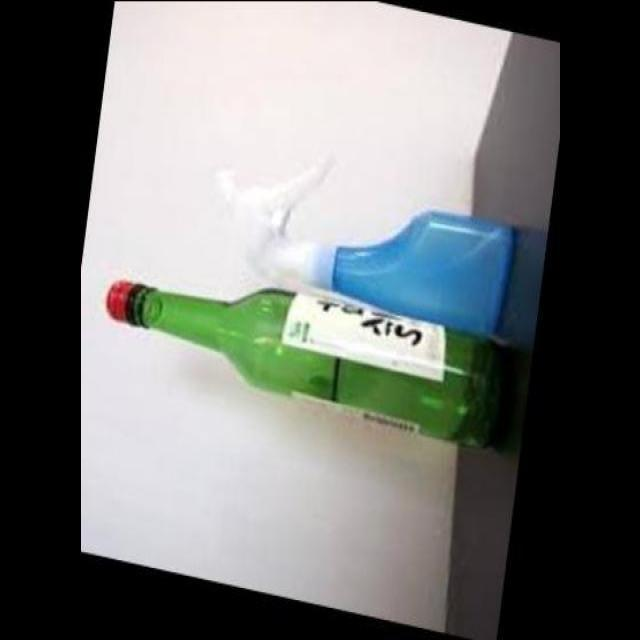Glass: (98, 269, 520, 472)
